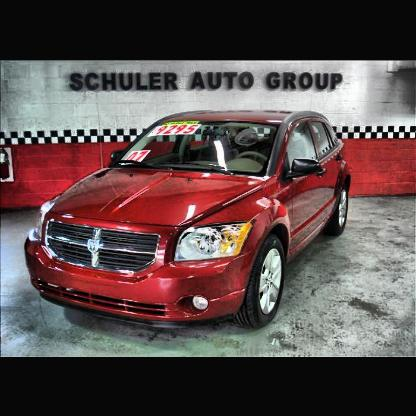Dodge Caliber Wagon 2007: (24, 108, 355, 336)
